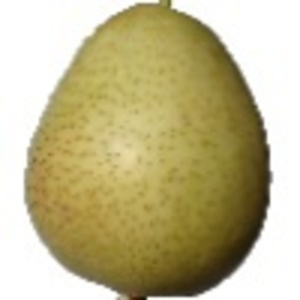pera: (23, 1, 272, 300)
